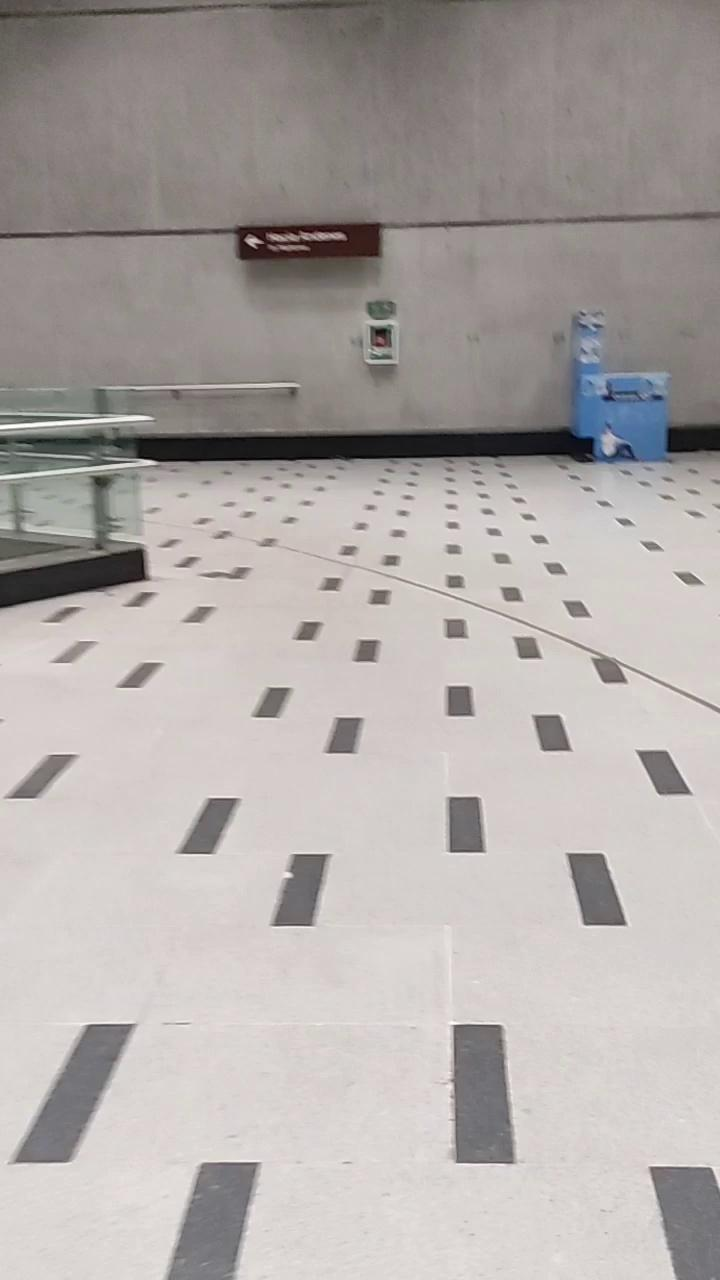left arrow: (241, 226, 268, 256)
